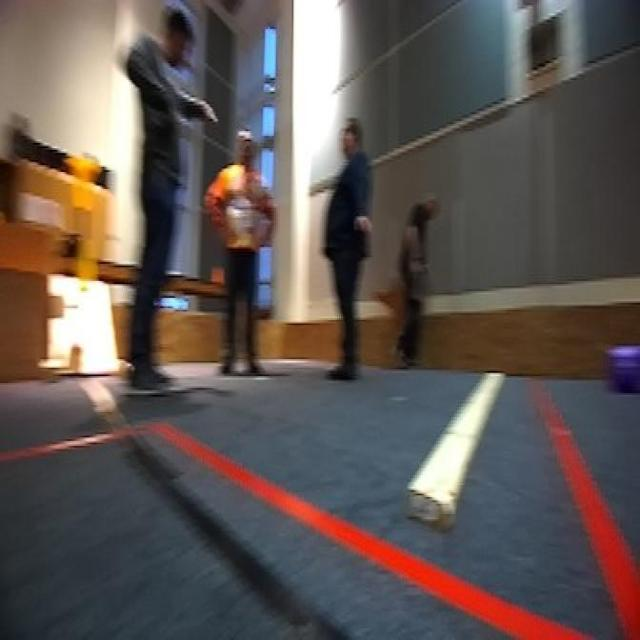frc_cone: (70, 153, 97, 208), (75, 237, 95, 294)
frc_cube: (611, 347, 639, 392)
